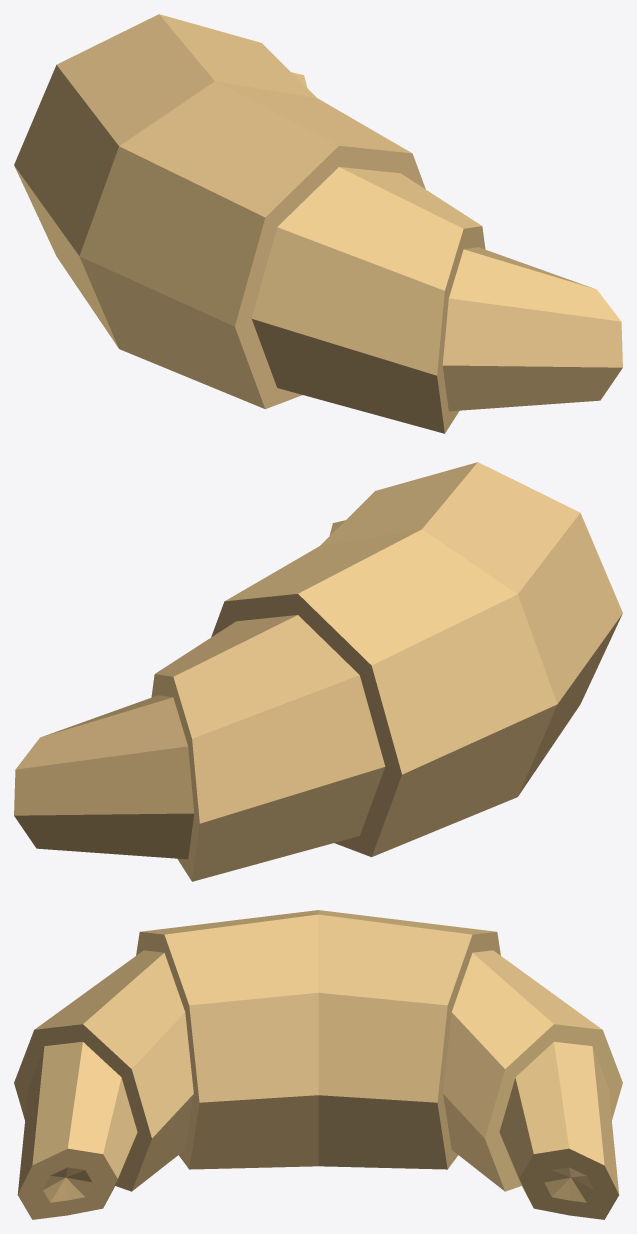
File: Croissant_01.gltf
3 views of the same model, one above another, from view 1: azimuth 30°, elevation 25°; view 2: azimuth 150°, elevation 25°; view 3: azimuth 270°, elevation 25° (orthographic). The views are drawn at different scales.
Visible parts, largest first — view 1: node-0; view 2: node-0; view 3: node-0.
Boxes of the visible parts, x1=… form: node-0: x1=14, y1=14, x2=622, y2=433; node-0: x1=14, y1=462, x2=622, y2=881; node-0: x1=14, y1=910, x2=622, y2=1219.
Size of the model in its own units: 6.05 by 3.86 by 9.94.
